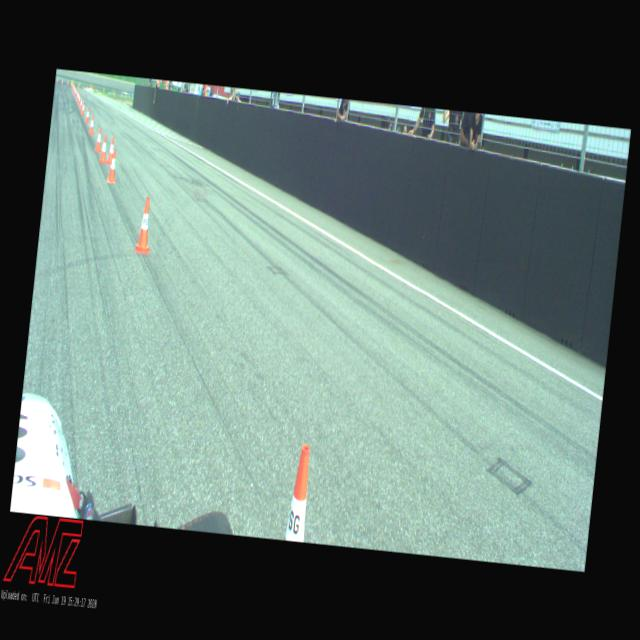orange_cone: (282, 443, 314, 541), (134, 194, 155, 253), (105, 148, 118, 184), (96, 133, 110, 162), (105, 136, 116, 166), (93, 128, 103, 152), (88, 115, 96, 135), (84, 105, 90, 124), (80, 99, 86, 115), (79, 97, 83, 110), (76, 94, 80, 105)
